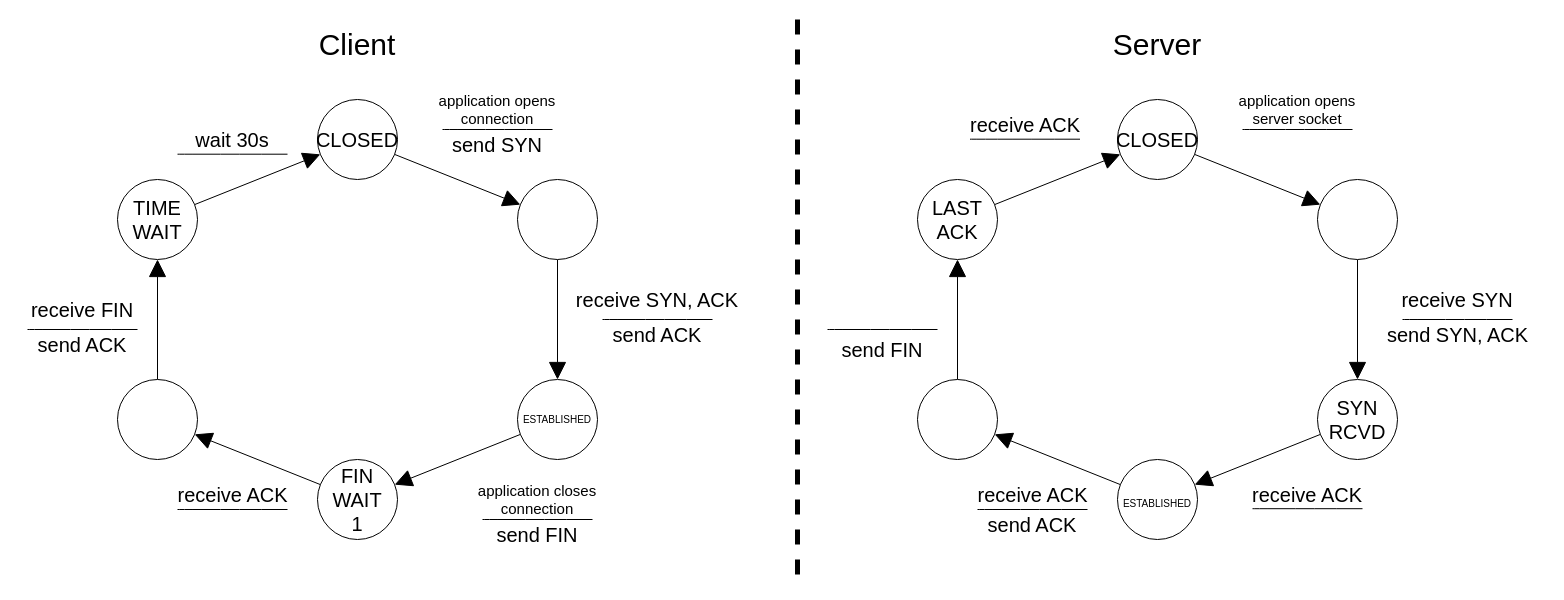
This 1564x600 diagram has some shape labels left out. The box of each missing label's shape, as (x1, y1, x2, y2) in pixels:
CLOSE WAIT: (916, 378, 998, 460)
FIN WAIT 2: (116, 378, 198, 460)
LISTEN: (1316, 178, 1398, 260)
SYN SENT: (516, 178, 598, 260)
